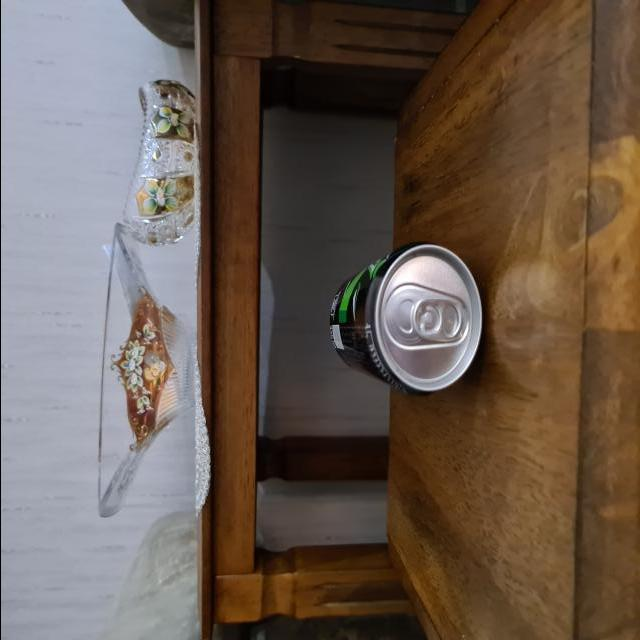can: (328, 244, 482, 388)
